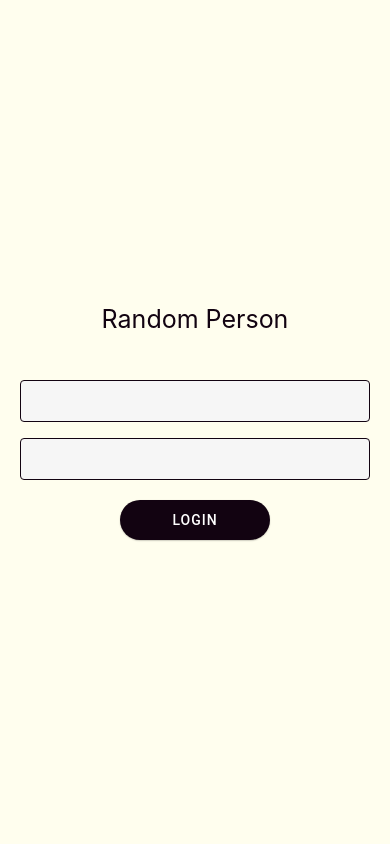
Test: should navigate to dashboard after login/ login navigation test
Type "aaaa1" into the field with test id "usernameInput" at (195, 402), box [20,382,370,422]
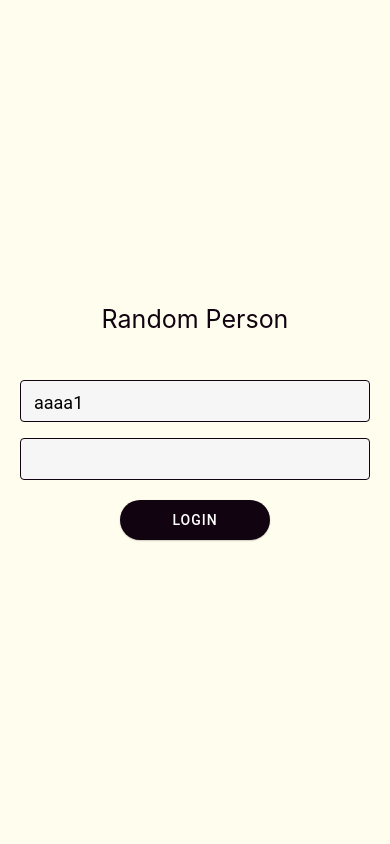
Type "a@a1a" into the password field with test id "passwordInput" at (173, 460), box [20,440,326,480]
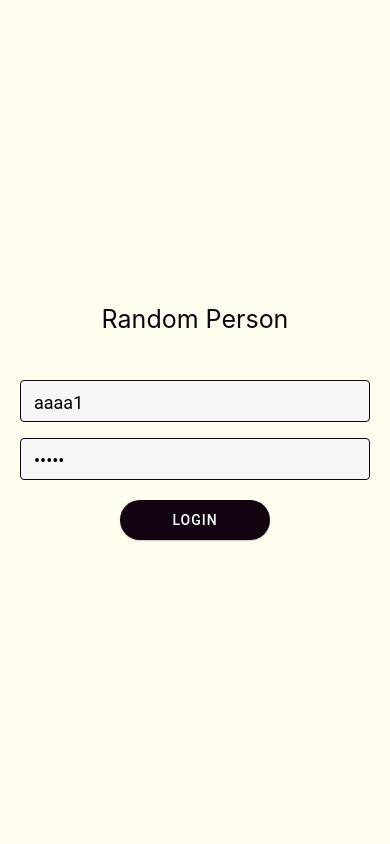
Click the button with test id "loginButton" at (195, 520), box [120,500,270,540]
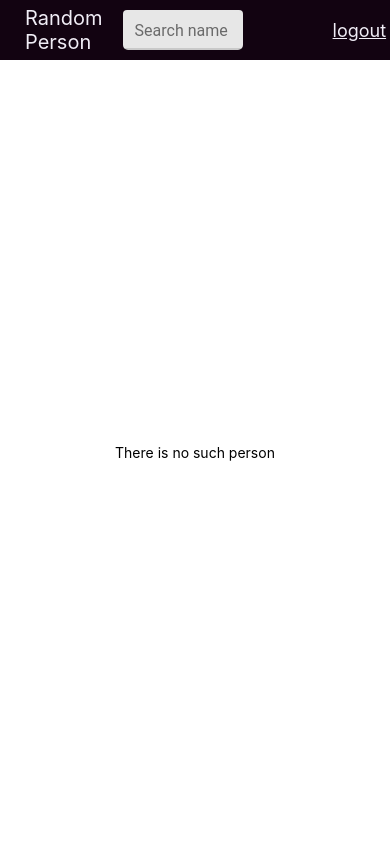
Expected: the element with test id "dashboard" is shown, [0,0,389,460]
